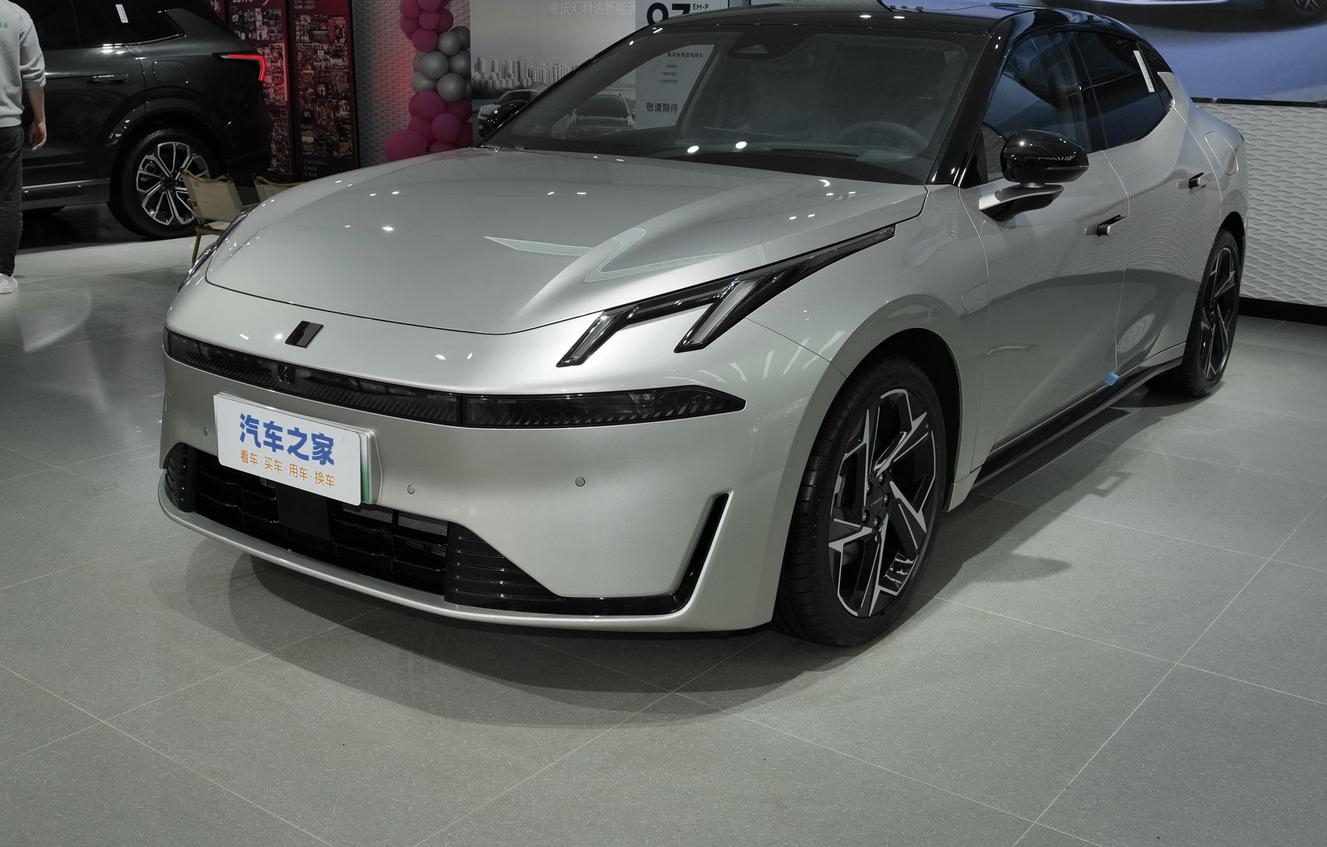LINK&CO: (286, 321, 324, 347)
